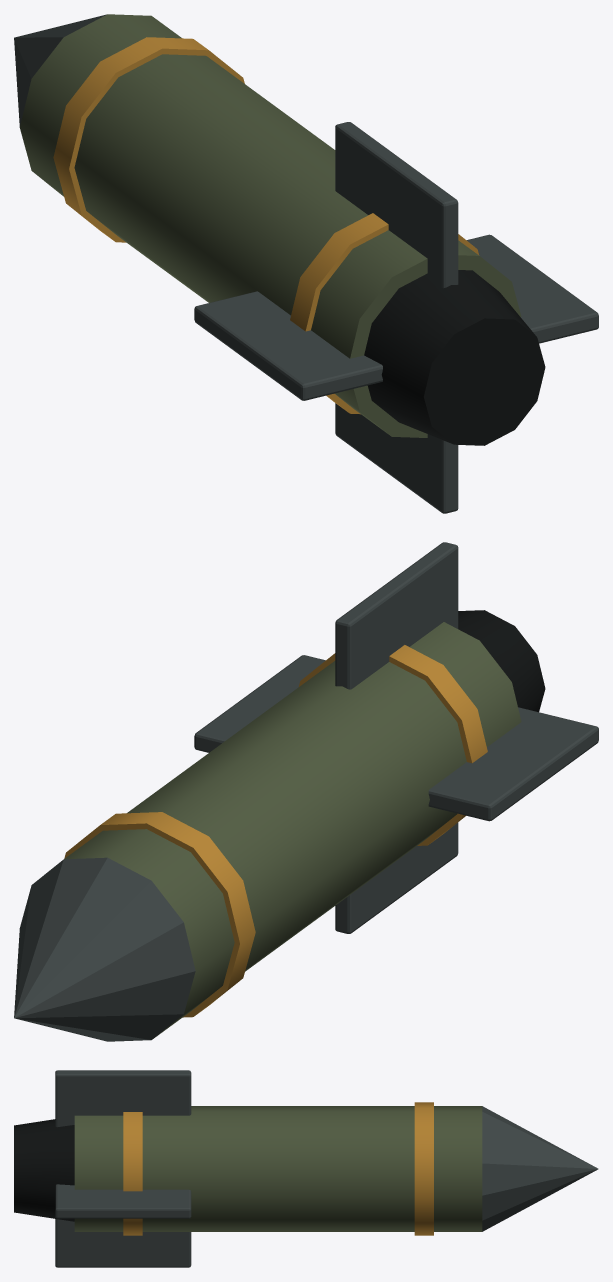
Rendered from noir-projectile-rocket.glb.
The picture shows the model from 3 angles, top to bottom: view 1: azimuth 30°, elevation 25°; view 2: azimuth 150°, elevation 25°; view 3: azimuth 270°, elevation 25°; orthographic projection. The views are drawn at different scales.
Parts seen in each view (by area): view 1: noir-projectile-rocket mesh; view 2: noir-projectile-rocket mesh; view 3: noir-projectile-rocket mesh.
Boxes of the visible parts, bbox=[...] form: noir-projectile-rocket mesh: bbox=[14, 14, 598, 513]; noir-projectile-rocket mesh: bbox=[14, 542, 598, 1041]; noir-projectile-rocket mesh: bbox=[14, 1070, 598, 1267].
Size of the model in its own units: 0.22 by 0.22 by 0.6025.
